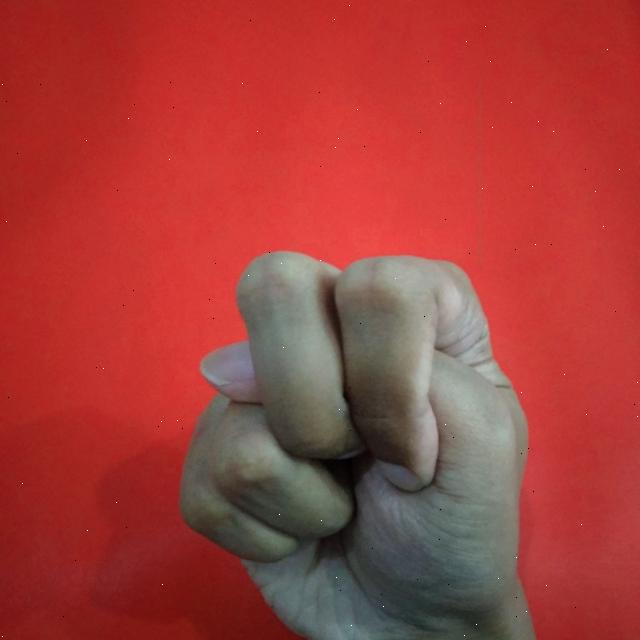N: (170, 241, 545, 640)
